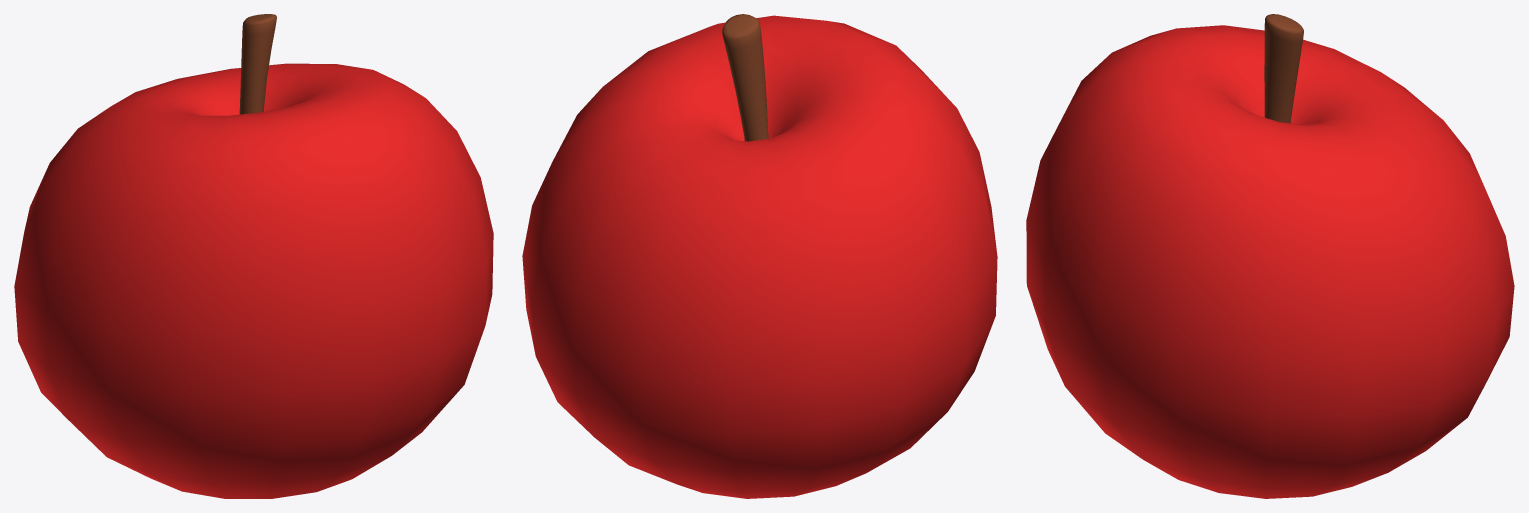
The model's file is apple-d-2-1.fbx.
3 renders of one model, left to right at view 1: azimuth 30°, elevation 25°; view 2: azimuth 150°, elevation 25°; view 3: azimuth 270°, elevation 25°, orthographic. The views are drawn at different scales.
Parts seen in each view (by area): view 1: apple-d-2; view 2: apple-d-2; view 3: apple-d-2.
Part boxes in pixels (x1=…): apple-d-2: x1=14, y1=14, x2=493, y2=498; apple-d-2: x1=522, y1=14, x2=997, y2=498; apple-d-2: x1=1026, y1=14, x2=1514, y2=498.
Bounding box in the file's own units: 9.38 × 9.49 × 9.3.
